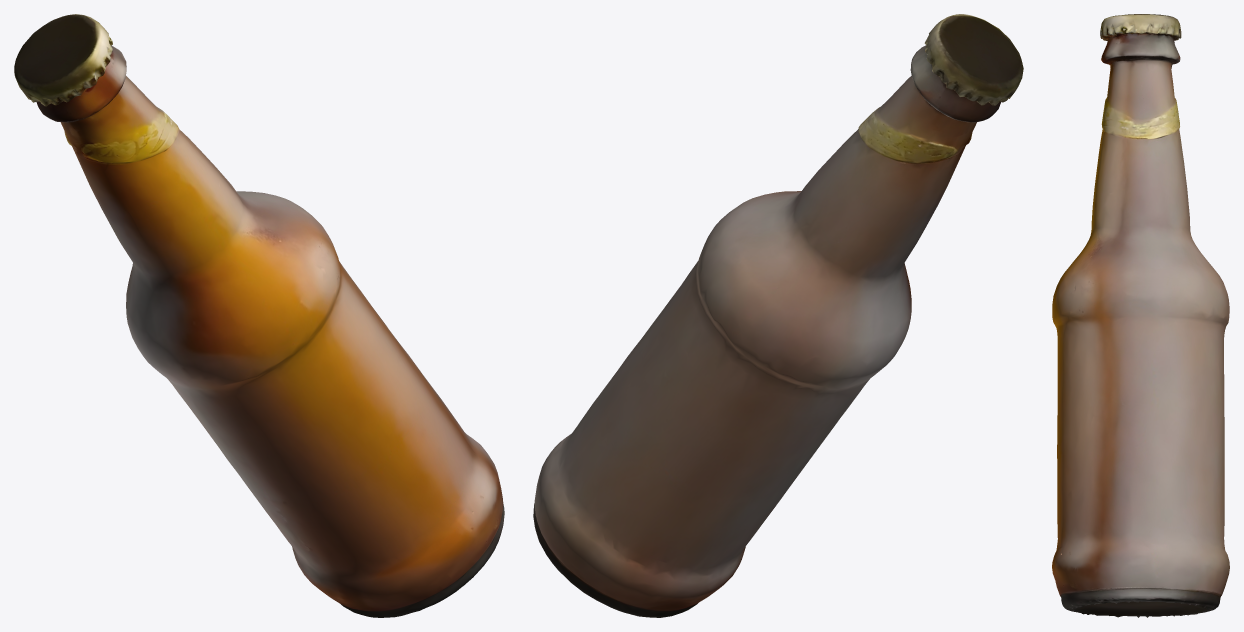
File: tripo_convert_c5eba516-565b-4e9d-98d6-7f06d65137c8.fbx
3 renders of one model, left to right at view 1: azimuth 30°, elevation 25°; view 2: azimuth 150°, elevation 25°; view 3: azimuth 270°, elevation 25°, orthographic. The views are drawn at different scales.
Parts seen in each view (by area): view 1: tripo_node_c5eba516; view 2: tripo_node_c5eba516; view 3: tripo_node_c5eba516.
Boxes of the visible parts, bbox=[...] form: tripo_node_c5eba516: bbox=[14, 14, 504, 617]; tripo_node_c5eba516: bbox=[533, 14, 1023, 617]; tripo_node_c5eba516: bbox=[1052, 14, 1229, 617].
Size of the model in its own units: 0.7493 by 1 by 0.3202.
Materials: 1 (1 with a texture image).
